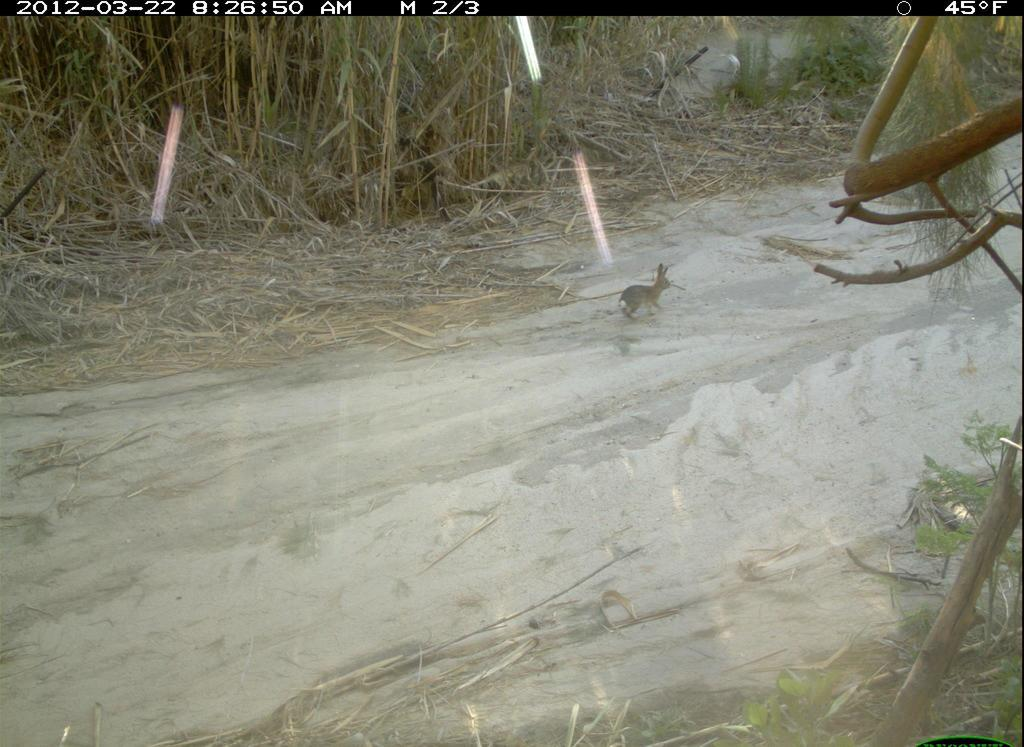rabbit: (596, 260, 702, 338)
